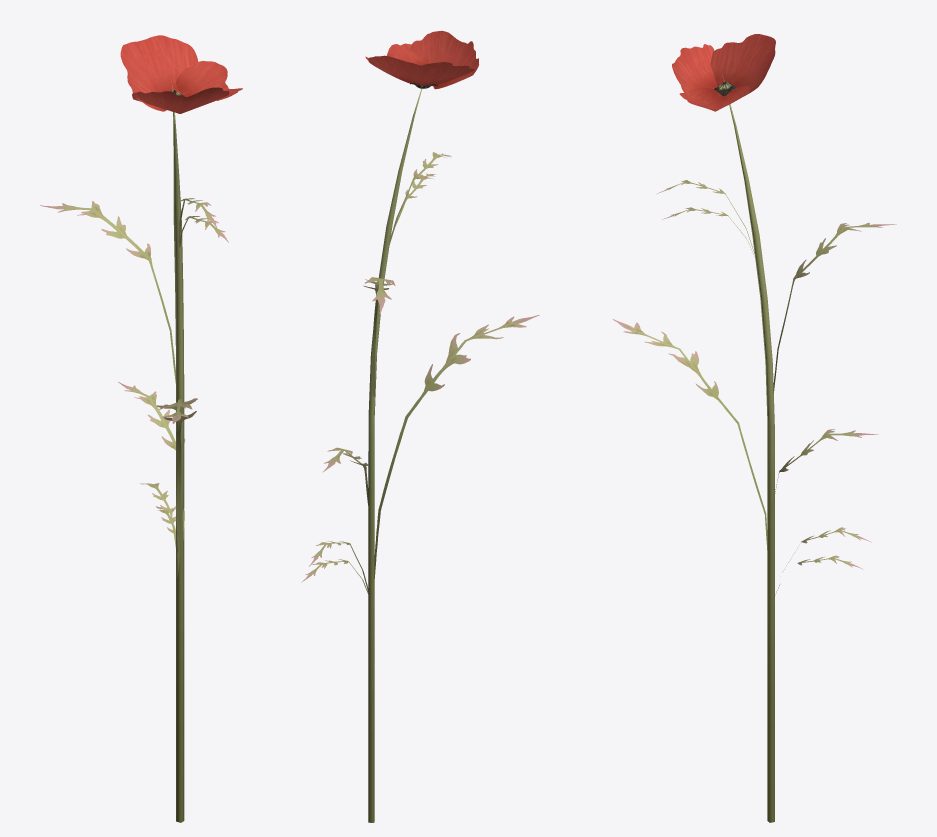
The model's file is bunga hiasan2.fbx.
3 views of the same model, side by side, from view 1: azimuth 30°, elevation 25°; view 2: azimuth 150°, elevation 25°; view 3: azimuth 270°, elevation 25° (orthographic). The views are drawn at different scales.
Visible parts, largest first — view 1: Object_8.001; view 2: Object_8.001; view 3: Object_8.001.
Boxes of the visible parts, x1,y1,x2,y2 form: Object_8.001: [40, 35, 242, 822]; Object_8.001: [301, 30, 539, 822]; Object_8.001: [612, 34, 896, 822].
Size of the model in its own units: 123 by 622 by 247.
Materials: 1 (1 with a texture image).
